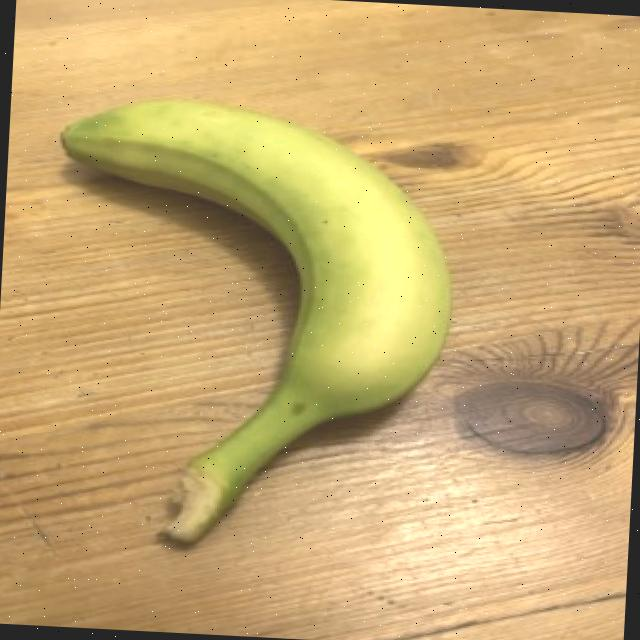Unripe: (12, 66, 501, 568)
